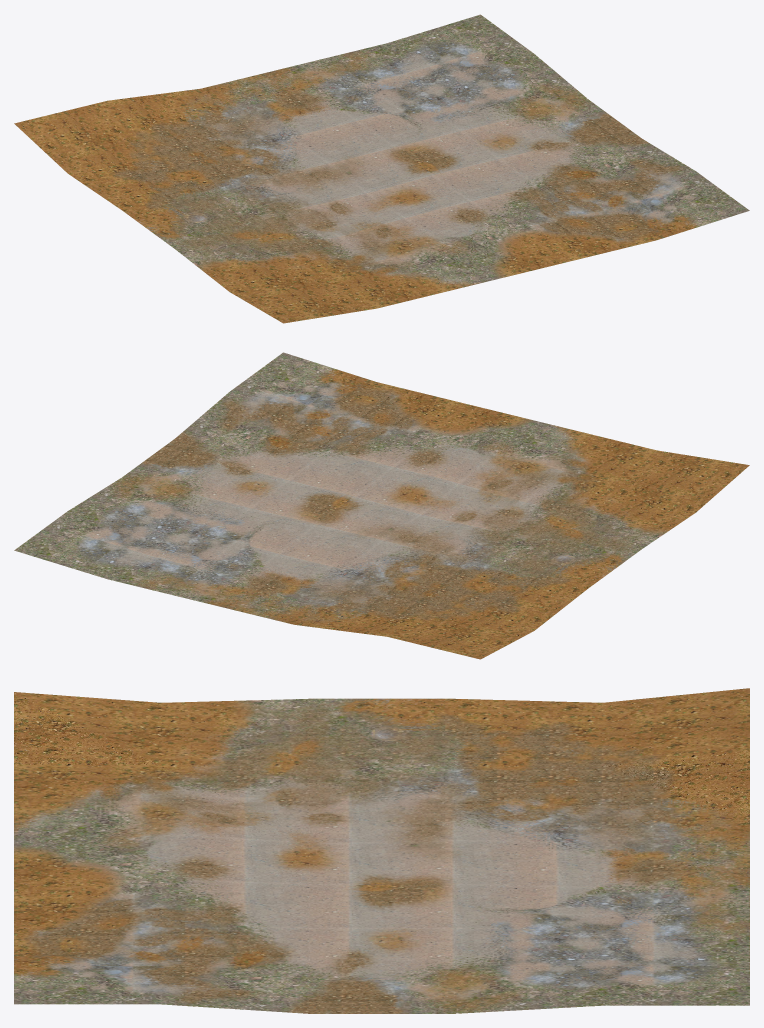
The model's file is terrain_2.obj.
The picture shows the model from 3 angles, top to bottom: view 1: azimuth 30°, elevation 25°; view 2: azimuth 150°, elevation 25°; view 3: azimuth 270°, elevation 25°; orthographic projection. The views are drawn at different scales.
Parts seen in each view (by area): view 1: lp; view 2: lp; view 3: lp.
Boxes of the visible parts, box(x1,y1,x2,y2) form: lp: box(14, 14, 749, 323); lp: box(14, 352, 749, 659); lp: box(14, 688, 749, 1013).
Bounding box in the file's own units: 5694 × 157 × 5694.
